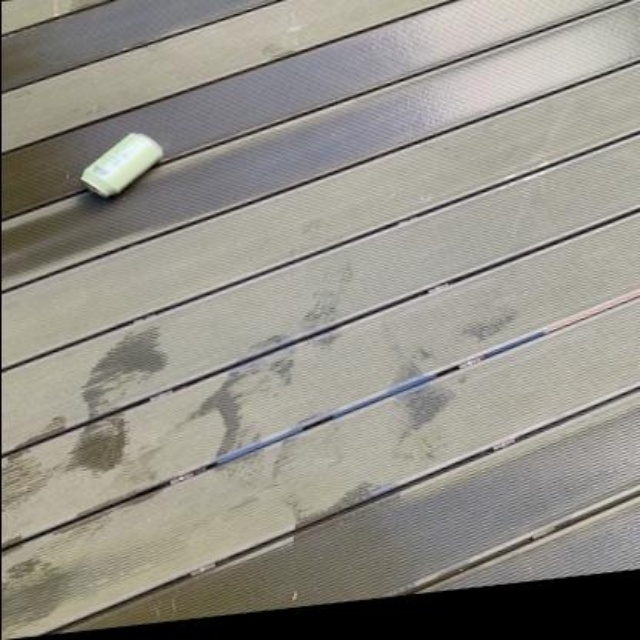trash: (82, 132, 162, 195)
